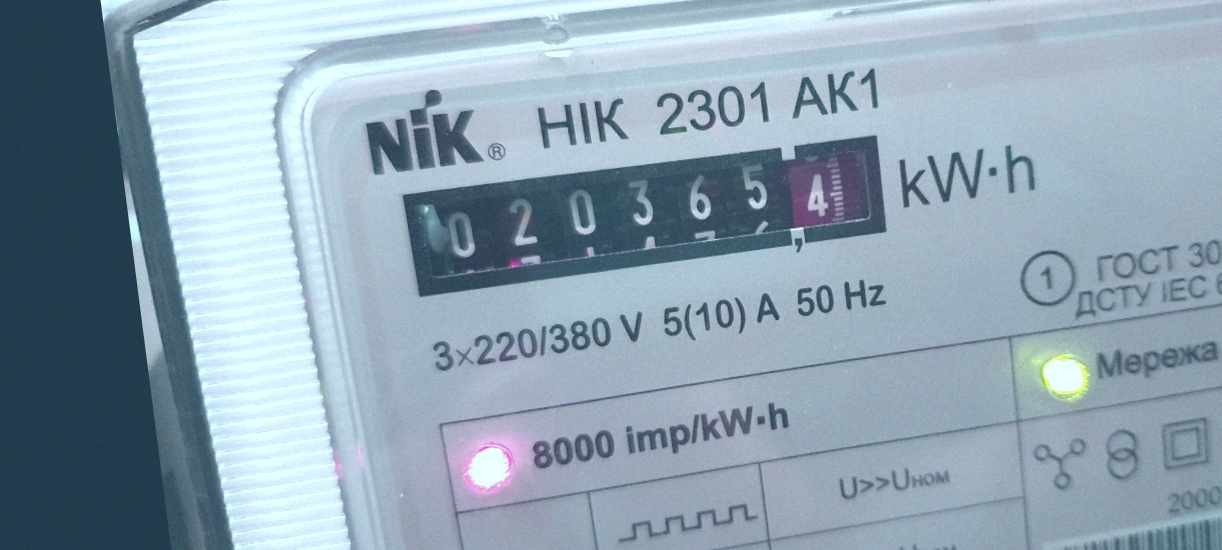0: (441, 204, 481, 262), (565, 185, 601, 238)
2: (504, 193, 540, 247)
3: (624, 176, 658, 228)
4: (801, 168, 830, 219)
5: (740, 161, 772, 211)
6: (682, 169, 714, 222)
screen: (386, 113, 907, 314)
